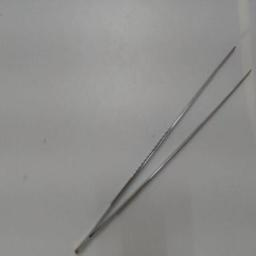DeBakey Dissector: (69, 39, 253, 253)
